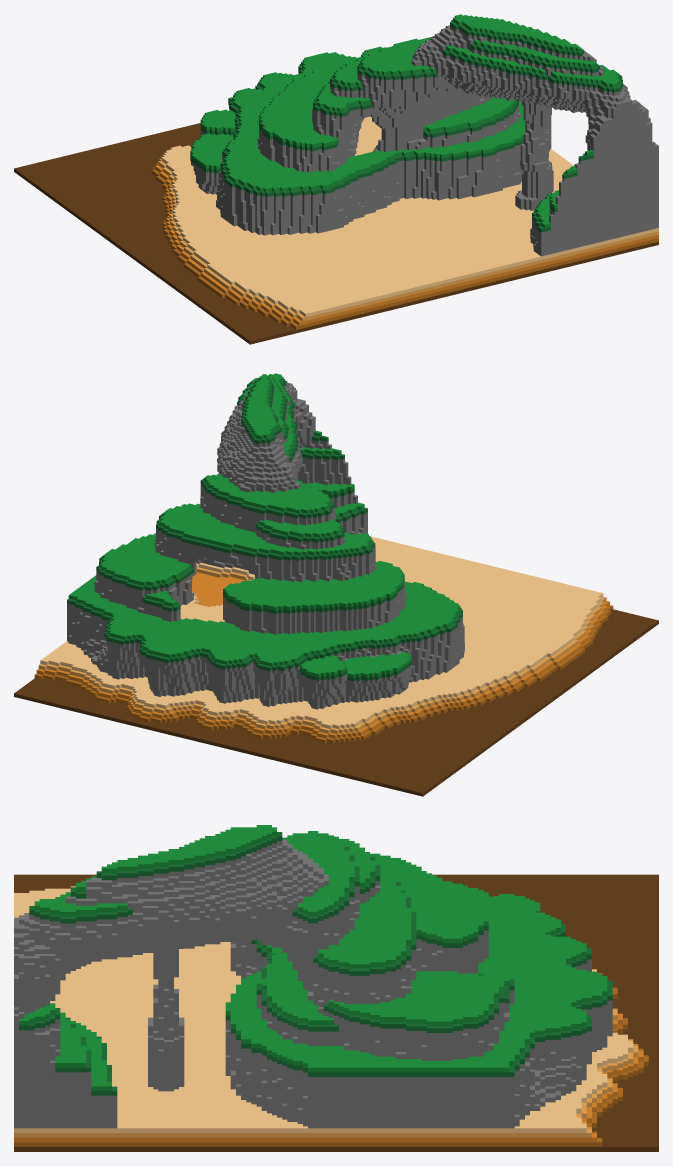
File: Terrain 1.obj
3 renders of one model, top to bottom at view 1: azimuth 30°, elevation 25°; view 2: azimuth 150°, elevation 25°; view 3: azimuth 270°, elevation 25°, orthographic. The views are drawn at different scales.
Visible parts, largest first — view 1: Terrain 1; view 2: Terrain 1; view 3: Terrain 1.
Part boxes in pixels (x1=…): Terrain 1: x1=14, y1=14, x2=658, y2=344; Terrain 1: x1=14, y1=373, x2=658, y2=796; Terrain 1: x1=14, y1=825, x2=658, y2=1151.
Size of the model in its own units: 125 by 54 by 125.
1 material, 1 textured.
